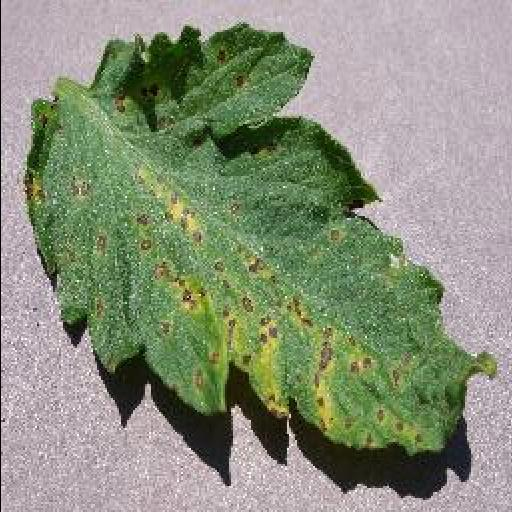disease_tomato: (26, 24, 498, 456)
